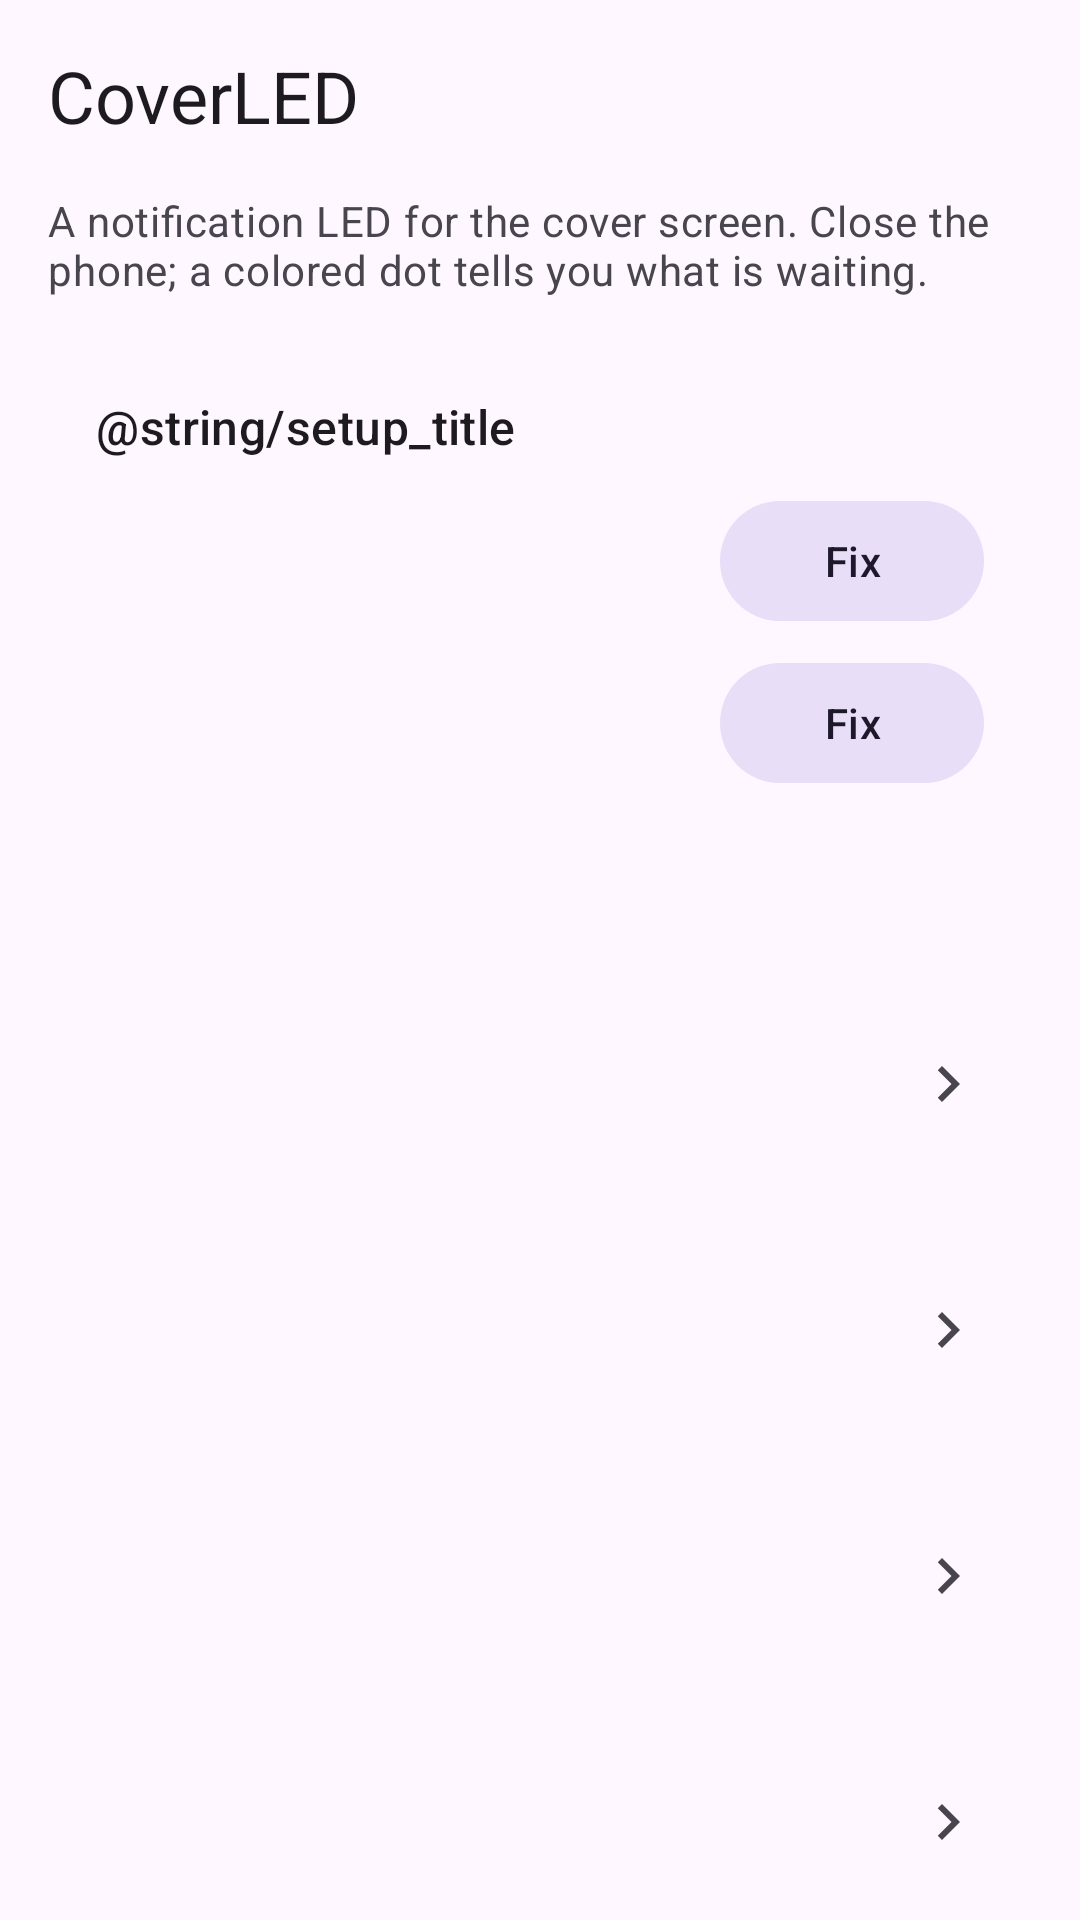

Icons on this 1080w x 1920h Android screen, each with its box as box=[x1, y1, x2, y2]:
chevron: box=[938, 1066, 960, 1102], box=[938, 1312, 960, 1348], box=[938, 1558, 960, 1594], box=[938, 1804, 960, 1840]
